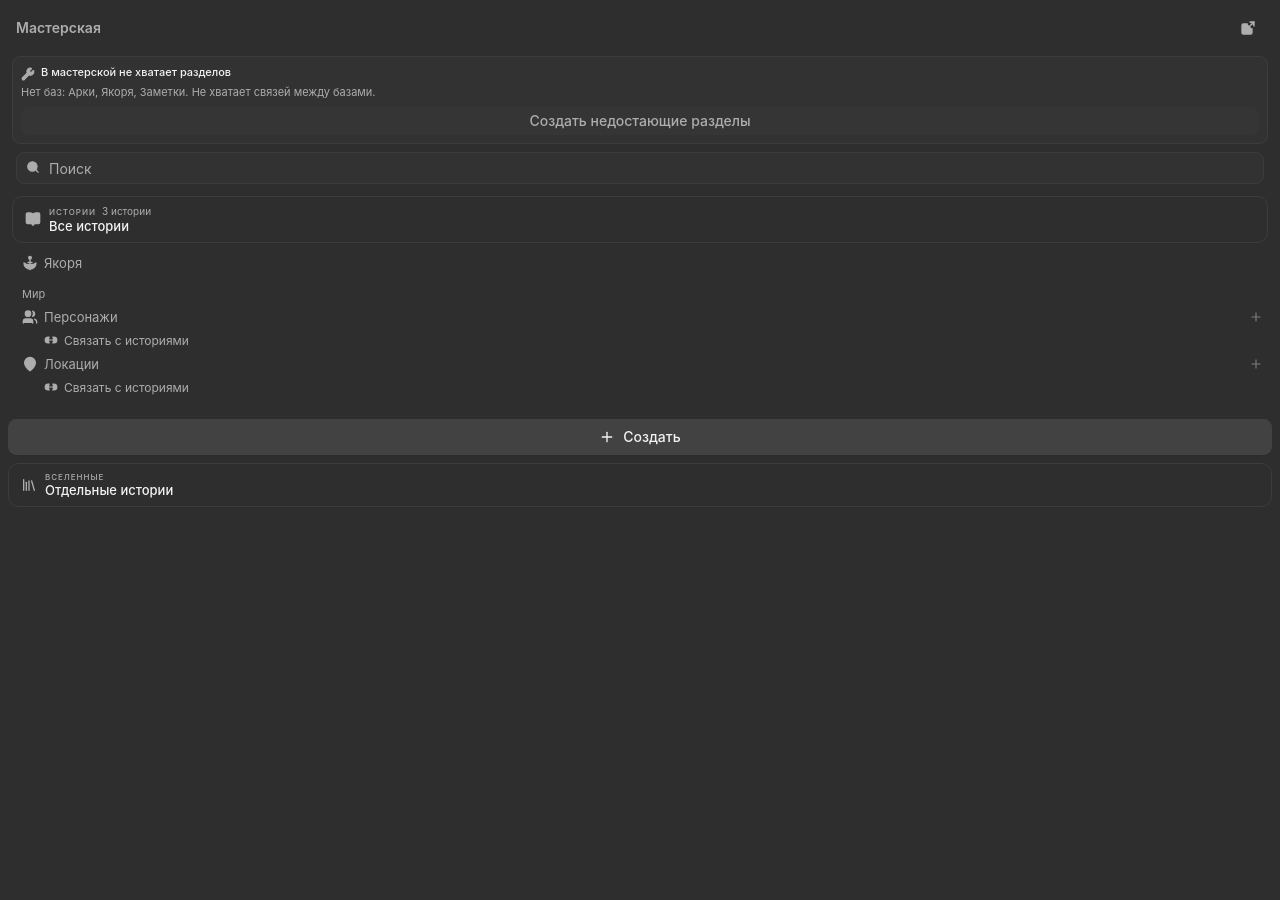
Scenario: CreativePanel: belonging to stories and universes › says why a link failed on the world, in the user's words
The image size is (1280, 900).
Click the 1st button "Связать с историями". click: x=126, y=340
box: [8,329,1272,352]
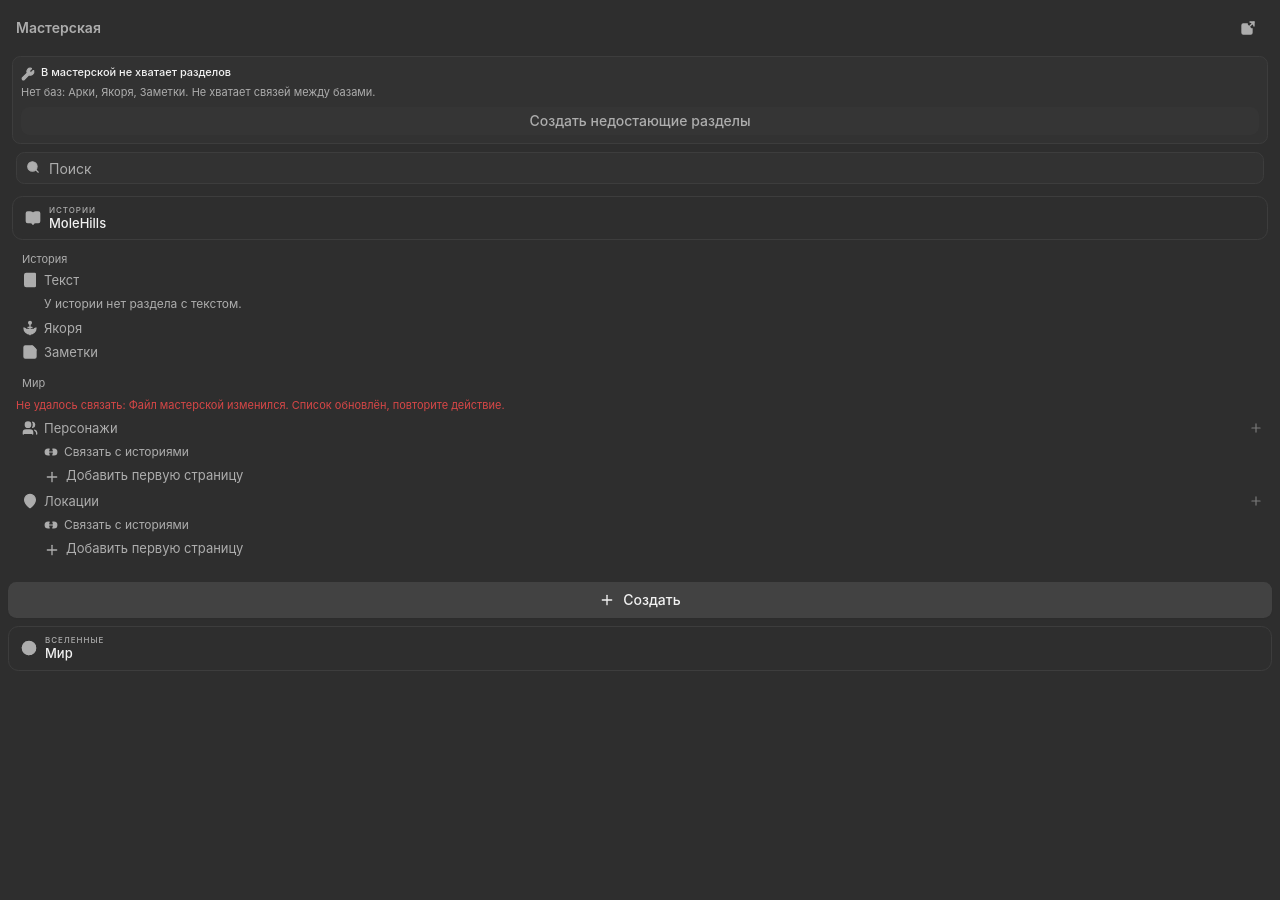
expect the message shows "Не удалось связать": met, box [16,398,505,412]
